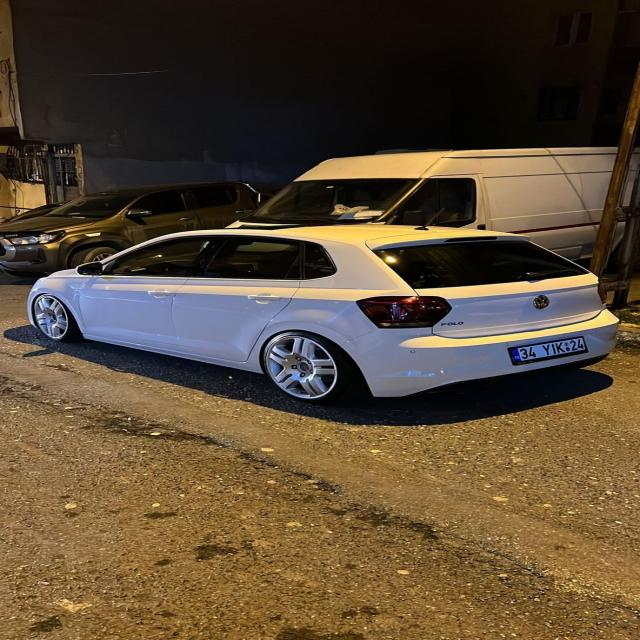Placas: (504, 333, 590, 365)
